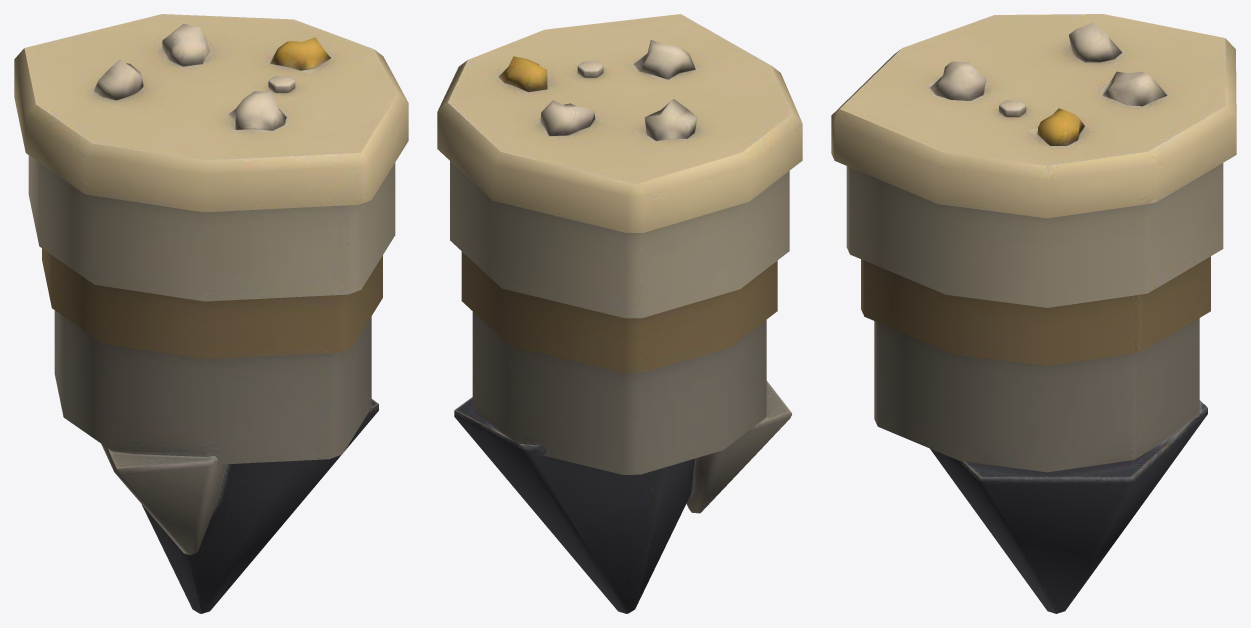
File: coast_chunk.glb
3 renders of one model, left to right at view 1: azimuth 30°, elevation 25°; view 2: azimuth 150°, elevation 25°; view 3: azimuth 270°, elevation 25°, orthographic. The views are drawn at different scales.
Parts seen in each view (by area): view 1: coast_chunk; view 2: coast_chunk; view 3: coast_chunk.
Boxes of the visible parts, bbox=[...] form: coast_chunk: bbox=[14, 14, 408, 613]; coast_chunk: bbox=[437, 14, 802, 613]; coast_chunk: bbox=[831, 14, 1236, 613].
Bounding box in the file's own units: 2.18 × 3.53 × 2.32.
Materials: 1 (1 with a texture image).
